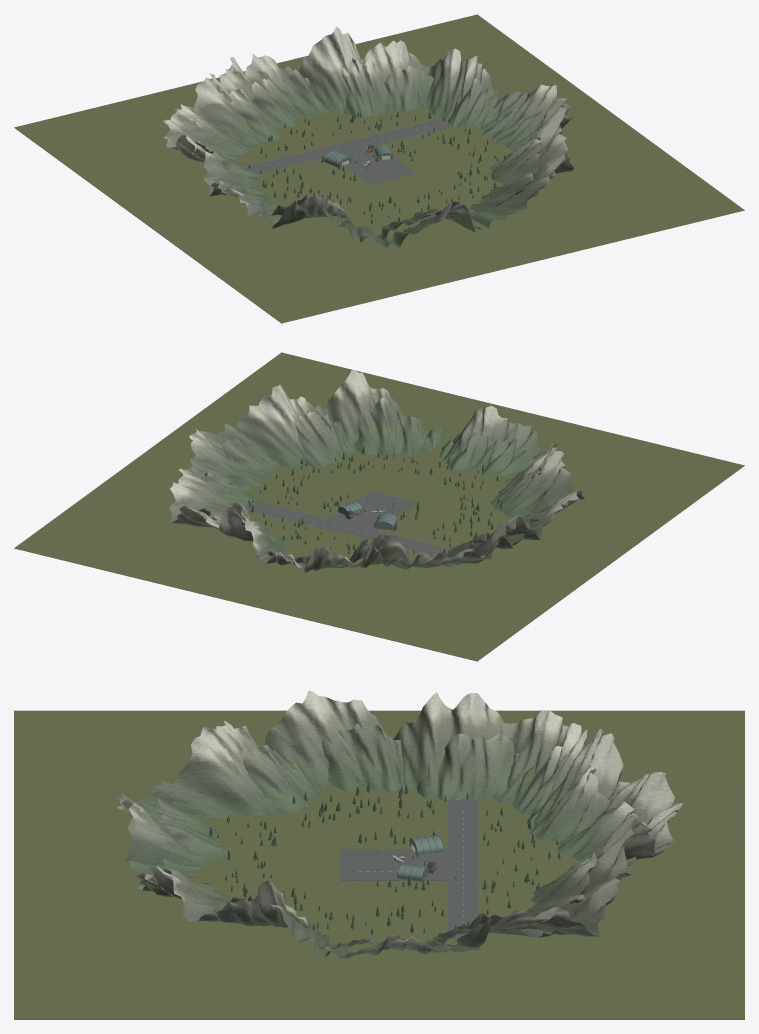
File: airfield.glb
3 views of the same model, one above another, from view 1: azimuth 30°, elevation 25°; view 2: azimuth 150°, elevation 25°; view 3: azimuth 270°, elevation 25° (orthographic). The views are drawn at different scales.
Visible parts, largest first — view 1: Aeroporto 1938; view 2: Aeroporto 1938; view 3: Aeroporto 1938.
Boxes of the visible parts, x1,y1,x2,y2 form: Aeroporto 1938: (14, 14, 744, 323); Aeroporto 1938: (14, 352, 744, 661); Aeroporto 1938: (14, 690, 744, 1019).
Size of the model in its own units: 480 by 64.6 by 480.
23 materials, 7 textured.
